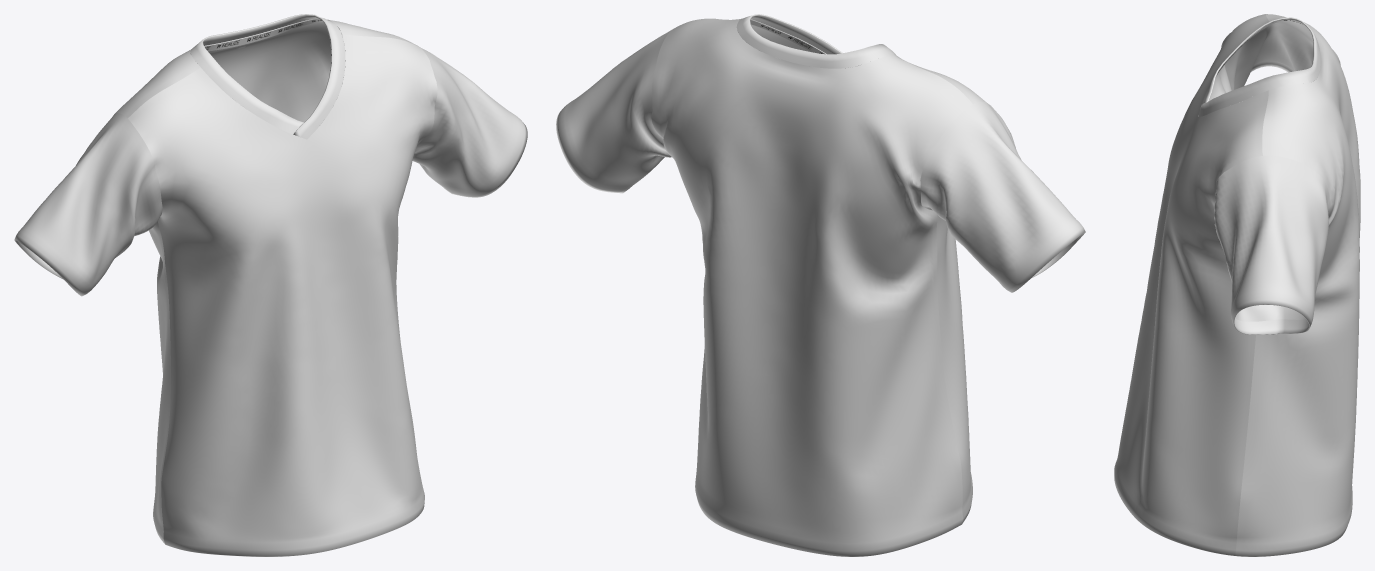
3 views of the same model, side by side, from view 1: azimuth 30°, elevation 25°; view 2: azimuth 150°, elevation 25°; view 3: azimuth 270°, elevation 25° (orthographic). The views are drawn at different scales.
Parts seen in each view (by area): view 1: model_front, model_sleeve_right, model_sleeve_left, model_inside, model_back, model_collar, model_sweatband; view 2: model_back, model_sleeve_right, model_sleeve_left, model_front, model_collar; view 3: model_front, model_back, model_sleeve_left, model_inside, model_collar.
Part boxes in pixels (<box>): model_front: <box>128,34,437,556</box>; model_sleeve_right: <box>14,113,162,296</box>; model_sleeve_left: <box>412,47,527,197</box>; model_inside: <box>190,18,345,122</box>; model_back: <box>115,19,418,543</box>; model_collar: <box>190,14,345,139</box>; model_sweatband: <box>205,19,322,51</box>; model_back: <box>651,18,972,556</box>; model_sleeve_right: <box>920,102,1085,292</box>; model_sleeve_left: <box>556,29,672,193</box>; model_front: <box>704,18,989,523</box>; model_collar: <box>737,14,895,68</box>; model_front: <box>1114,14,1268,555</box>; model_back: <box>1235,14,1360,556</box>; model_sleeve_left: <box>1214,155,1331,334</box>; model_inside: <box>1209,21,1314,321</box>; model_collar: <box>1198,17,1320,116</box>.
Size of the model in its own units: 0.7374 by 0.6678 by 0.3217.
Materials: 4 (2 with a texture image).
